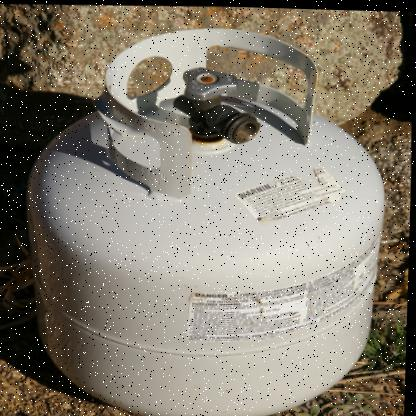gas-tank: (4, 9, 415, 415)
